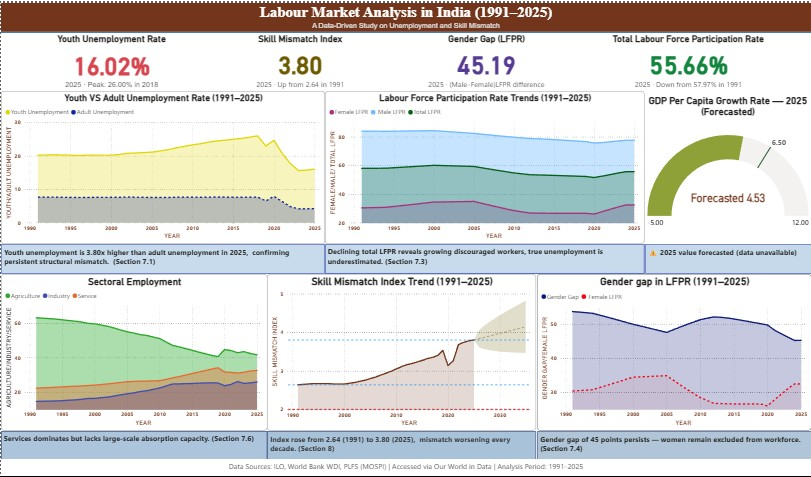

What the dashboard file says about the page in this screenshot:
{"tool":"powerbi","page":{"name":"Labour Market Analysis","canvas":[1800,1050],"ordinal":0},"visuals":[{"type":"shape","title":"Labour Market Analysis in India (1991–2025)","box":[0,0,1800,66],"z":0},{"type":"card","title":"Youth Unemployment Rate","fields":{"Values":["Labour Market India.Latest Youth Unemployment"]},"box":[0,66,492,130],"z":1000},{"type":"card","title":"Skill Mismatch Index","fields":{"Values":["Labour Market India.Latest Skill Mismatch"]},"box":[450,66,428,130],"z":2000},{"type":"card","title":"Gender Gap (LFPR)","fields":{"Values":["Labour Market India.Latest Gender Gap"]},"box":[878,66,402,130],"z":3000},{"type":"card","title":"Total Labour Force Participation Rate","fields":{"Values":["Labour Market India.Latest Total LFPR"]},"box":[1256,66,544,130],"z":4000},{"type":"lineChart","title":"Youth VS Adult Unemployment Rate (1991–2025)","fields":{"Category":["Labour Market India.Year"],"Y":["Sum(Labour Market India.Youth Unemployment)","Sum(Labour Market India.Adult Unemployment)"]},"box":[0,195,720,340],"z":5000},{"type":"areaChart","title":"Labour Force Participation Rate Trends (1991–2025)","fields":{"Category":["Labour Market India.Year"],"Y":["Sum(Labour Market India.Female LFPR)","Sum(Labour Market India.Male LFPR)","Sum(Labour Market India.Total LFPR)"]},"box":[720,195,710,340],"z":6000},{"type":"textbox","box":[0,545,750,75],"z":7000},{"type":"textbox","box":[0,536,720,66],"z":8000},{"type":"textbox","box":[720,536,710,66],"z":9000},{"type":"areaChart","title":"Sectoral Employment","fields":{"Category":["Labour Market India.Year"],"Y":["Sum(Labour Market India.Agriculture)","Sum(Labour Market India.Industry)","Sum(Labour Market India.Service)"]},"box":[0,602,592,348],"z":10000},{"type":"textbox","box":[0,950,592,64],"z":11000},{"type":"lineChart","title":"Skill Mismatch Index Trend (1991–2025)","fields":{"Category":["Labour Market India.Year"],"Y":["Sum(Labour Market India.Skill Mismatch Index)"]},"box":[592,602,598,348],"z":12000},{"type":"textbox","box":[592,950,598,64],"z":13000},{"type":"lineChart","title":"Gender gap in LFPR (1991–2025)","fields":{"Category":["Labour Market India.Year"],"Y":["Sum(Labour Market India.Gender Gap)","Sum(Labour Market India.Female LFPR)"]},"box":[1190,602,610,348],"z":14000},{"type":"textbox","box":[1190,950,610,64],"z":15000},{"type":"textbox","box":[0,1013.3,1800,36.7],"z":16000},{"type":"gauge","title":"GDP Per Capita Growth Rate — 2025 (Forecasted)","fields":{"Y":["Labour Market India.Forecasted GDP 2025"]},"box":[1431,204.8,369,340.5],"z":17000},{"type":"textbox","box":[1430,536,370,66],"z":18000}]}

Visuals, with their boxes in screenshot pixels (x1, y1, x2, y2), scaled from the page's 1800x1050 canvas onto the 811x477 screenshot:
"Labour Market Analysis in India (1991–2025)" shape: <region>0, 0, 810, 30</region>
"Youth Unemployment Rate" card: <region>0, 30, 222, 89</region>
"Skill Mismatch Index" card: <region>203, 30, 396, 89</region>
"Gender Gap (LFPR)" card: <region>396, 30, 577, 89</region>
"Total Labour Force Participation Rate" card: <region>566, 30, 810, 89</region>
"Youth VS Adult Unemployment Rate (1991–2025)" lineChart: <region>0, 89, 324, 243</region>
"Labour Force Participation Rate Trends (1991–2025)" areaChart: <region>324, 89, 644, 243</region>
textbox: <region>0, 248, 338, 282</region>
textbox: <region>0, 243, 324, 273</region>
textbox: <region>324, 243, 644, 273</region>
"Sectoral Employment" areaChart: <region>0, 273, 267, 432</region>
textbox: <region>0, 432, 267, 461</region>
"Skill Mismatch Index Trend (1991–2025)" lineChart: <region>267, 273, 536, 432</region>
textbox: <region>267, 432, 536, 461</region>
"Gender gap in LFPR (1991–2025)" lineChart: <region>536, 273, 810, 432</region>
textbox: <region>536, 432, 810, 461</region>
textbox: <region>0, 460, 810, 476</region>
"GDP Per Capita Growth Rate — 2025 (Forecasted)" gauge: <region>645, 93, 810, 248</region>
textbox: <region>644, 243, 810, 273</region>
